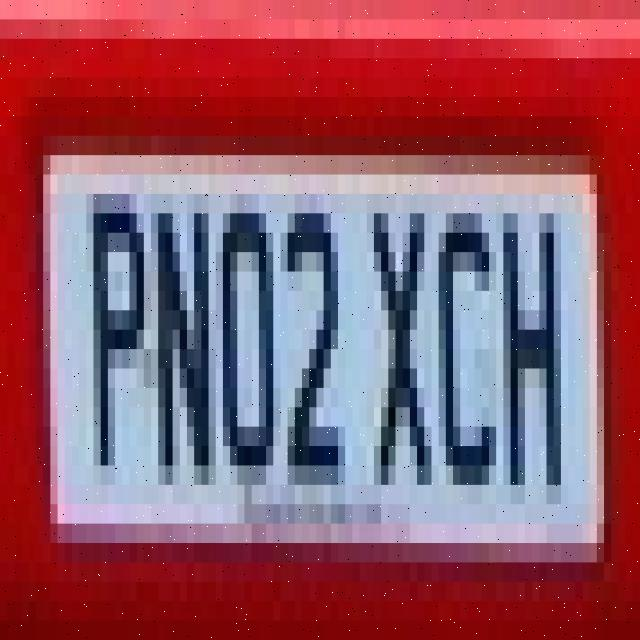licenseplate: (38, 118, 606, 555)
